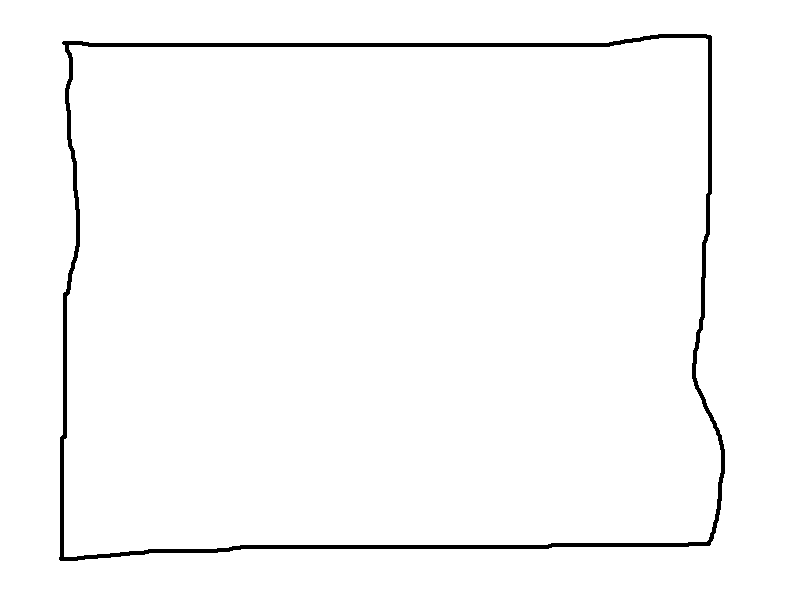rect: (55, 28, 730, 568)
